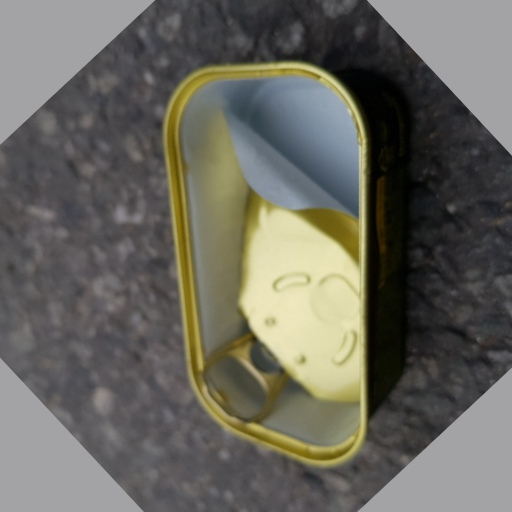Metal_2: (161, 64, 414, 471)
